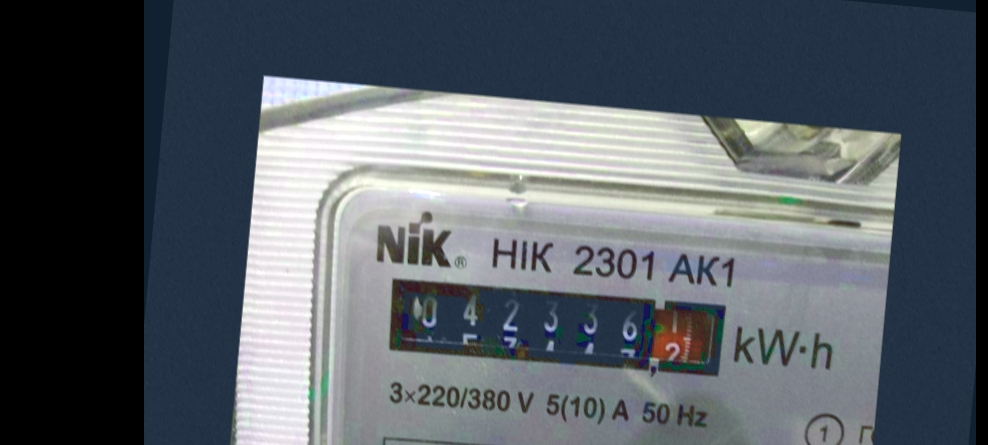0: (418, 292, 441, 329)
1: (666, 305, 681, 335)
2: (498, 295, 522, 333), (661, 339, 681, 362)
3: (539, 295, 562, 335), (578, 298, 601, 336)
4: (459, 289, 481, 327)
6: (616, 305, 641, 342)
screen: (377, 263, 736, 388)
